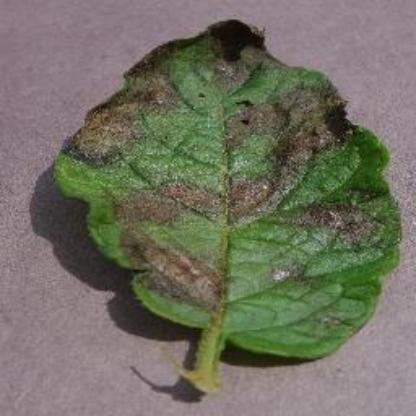Late-Blight: (33, 14, 415, 402)
